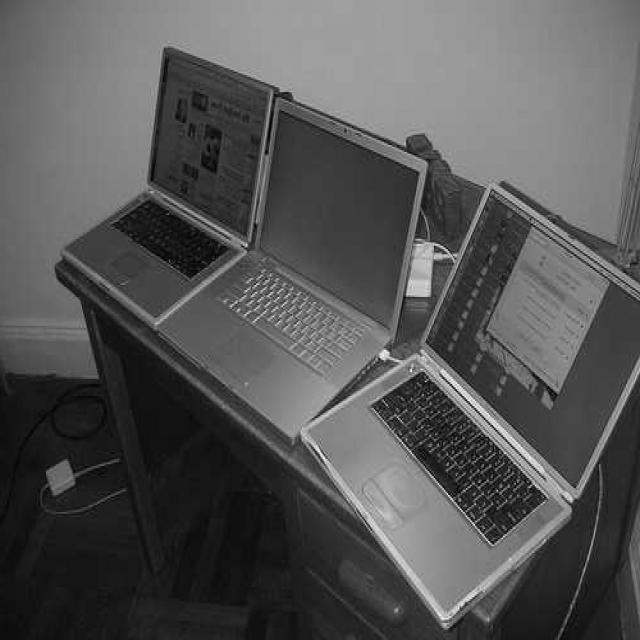laptop: (382, 195, 636, 571), (185, 107, 424, 426), (40, 68, 264, 316)
